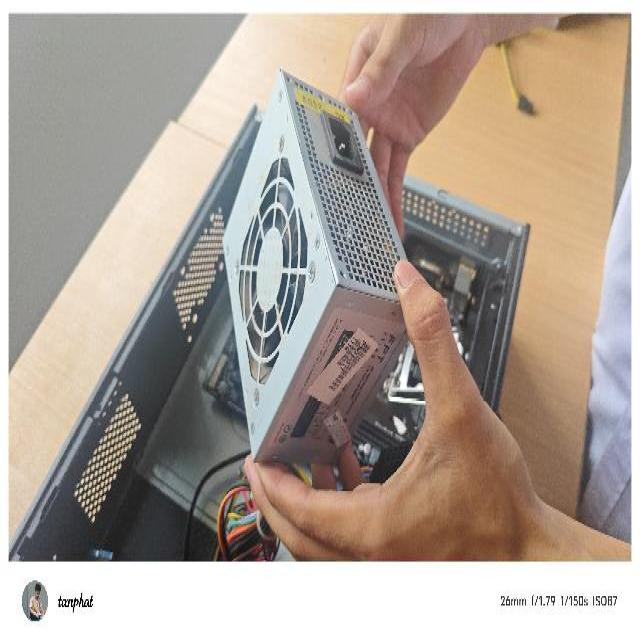PSU: (222, 63, 420, 470)
